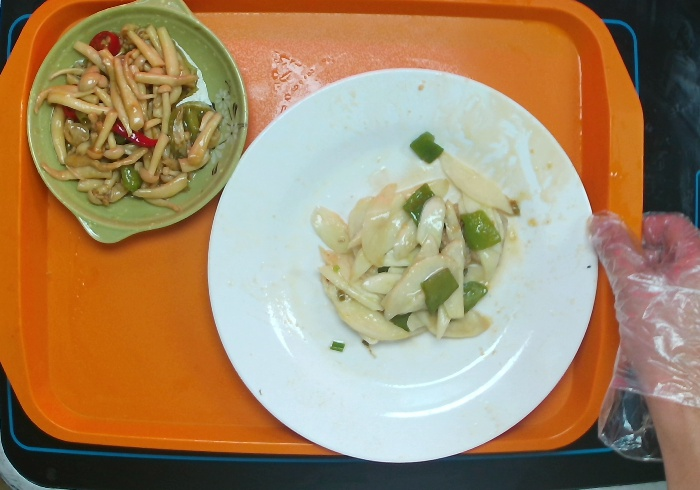NLDX-Da_Yuan_Pan: (205, 65, 601, 464)
NLDX-Lv_Hua_Shuang_Er_Die: (26, 1, 250, 246)
